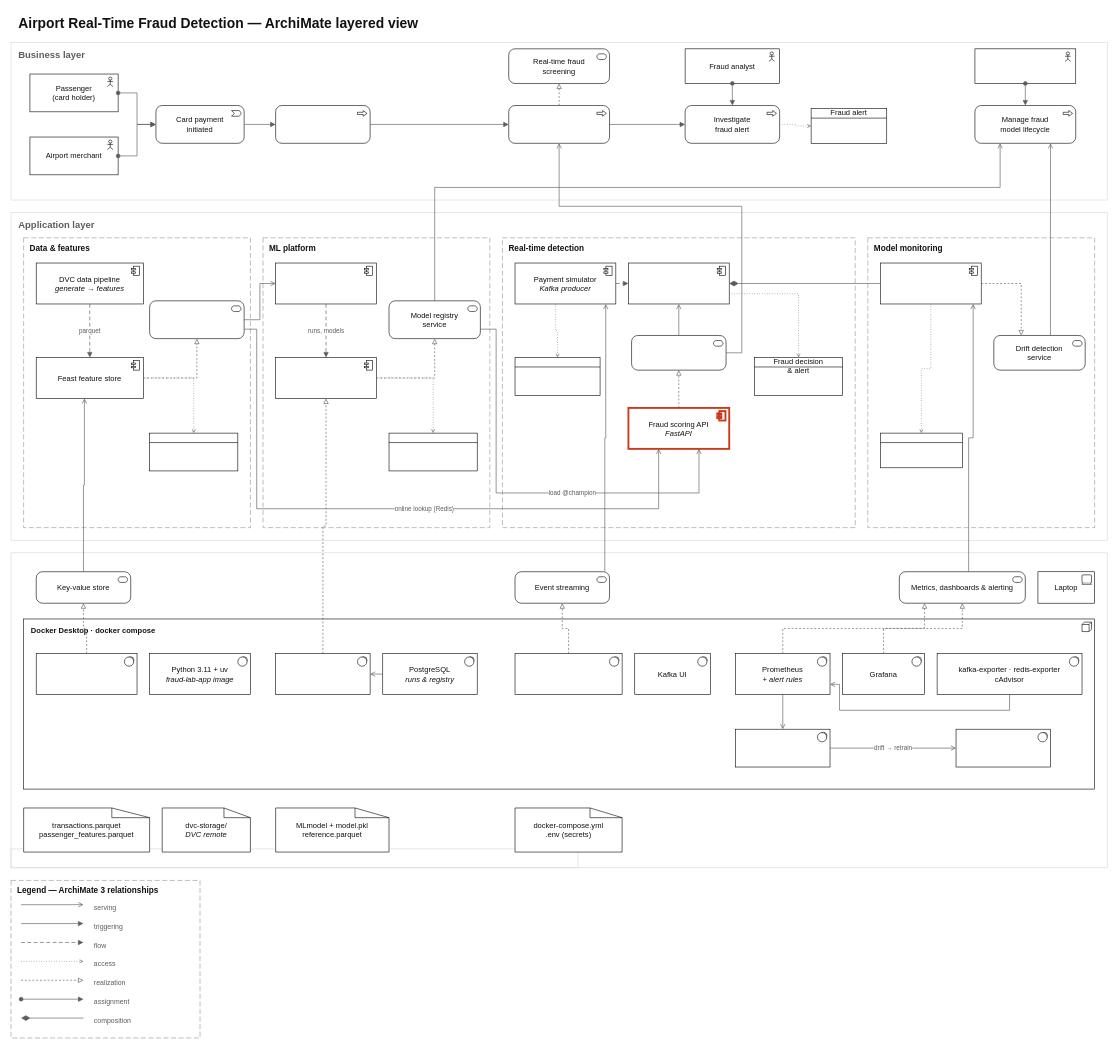
The diagram is 1118 pixels wide and 1049 high, and some of its shapes have lost their labels. The centre of each missing label's shape, as x and y in pixels:
"Alertmanager" belongs at [782,748].
"Apache Kafka 3.9 KRaft, 3 partitions" belongs at [568,674].
"Drift report" belongs at [921,450].
"Evidently drift monitor" belongs at [930,283].
"Fraud consumer consumer group ×N" belongs at [678,283].
"Fraud model @champion" belongs at [432,451].
"Fraud scoring service /predict" belongs at [678,352].
"ML engineer" belongs at [1025,65].
"MLflow server" belongs at [322,674].
"MLflow tracking & model registry" belongs at [325,377].
"Model trainer point-in-time join · sklearn" belongs at [325,283].
"Online / historical feature service" belongs at [196,319].
"Passenger profile features" belongs at [193,451].
"Pay at airport merchant" belongs at [322,124].
"Payment event airport.transactions" belongs at [557,376].
"Prefect server + flows" belongs at [1003,748].
"Redis Feast online store" belongs at [86,674].
"Screen payment for fraud" belongs at [559,124].
"Technology layer — one laptop, Docker Compose (no Kubernetes)" belongs at [294,858].
